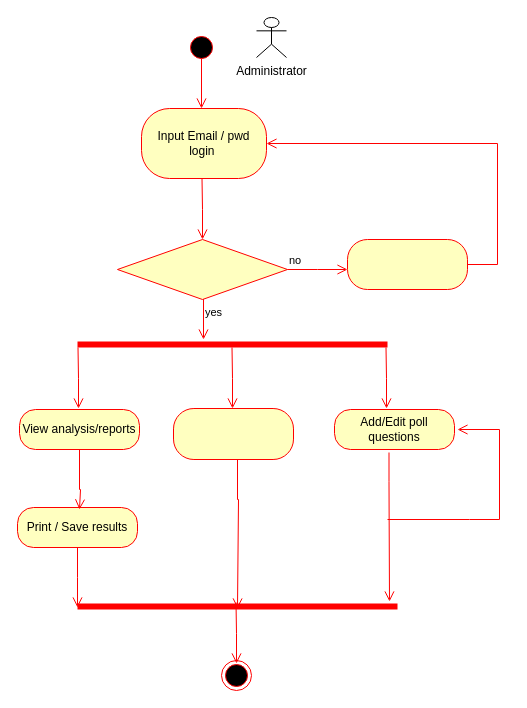
Image size: 527x708. Some labels were removed from this diagram. The centre of each missing label's shape, as x and y in pixels:
"Check user exists?" goes at point (202, 269).
"Maintain profile" goes at point (233, 434).
"Store user into DB" goes at point (407, 264).
